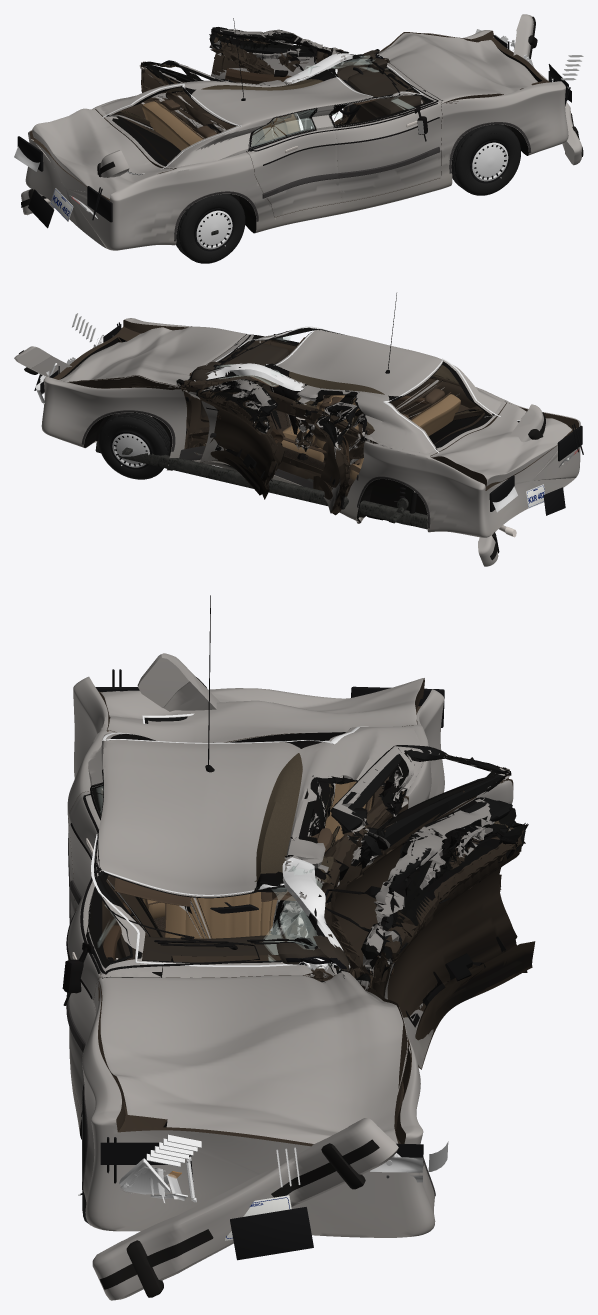
File: sedan87_side_d3.glb
The picture shows the model from 3 angles, top to bottom: view 1: azimuth 30°, elevation 25°; view 2: azimuth 150°, elevation 25°; view 3: azimuth 270°, elevation 25°; orthographic projection. The views are drawn at different scales.
Visible parts, largest first — view 1: Body, Door_FR, Hood, Door_RR, Trunk, Interior, Door_FL, Wheel_FR_mesh, Wheel_RR_mesh, Ends, Glass, Trim_FR (+8 smaller); view 2: Body, Hood, Door_FL, Trunk, Interior, Underbody, Wheel_FL_mesh, Ends, Door_RL, Glass, Trim, Bumper_R (+5 smaller); view 3: Body, Hood, Door_FL, Bumper_F, Trunk, Interior, Ends, Door_RL, Glass, Door_FR, Glass_RL, Trim_FR (+5 smaller).
Part boxes in pixels (bbox=[...]): Body: bbox=[25, 30, 568, 250]; Door_FR: bbox=[328, 90, 442, 202]; Hood: bbox=[375, 32, 537, 103]; Door_RR: bbox=[247, 107, 341, 217]; Trunk: bbox=[32, 108, 172, 198]; Interior: bbox=[142, 50, 424, 150]; Door_FL: bbox=[209, 29, 348, 80]; Wheel_FR_mesh: bbox=[451, 124, 520, 195]; Wheel_RR_mesh: bbox=[176, 194, 245, 263]; Ends: bbox=[14, 29, 583, 228]; Glass: bbox=[102, 53, 423, 174]; Trim_FR: bbox=[329, 70, 440, 178]; Body: bbox=[41, 318, 580, 537]; Hood: bbox=[59, 326, 248, 388]; Door_FL: bbox=[195, 379, 285, 499]; Trunk: bbox=[430, 403, 571, 486]; Interior: bbox=[190, 337, 460, 480]; Underbody: bbox=[95, 415, 516, 537]; Wheel_FL_mesh: bbox=[98, 412, 170, 479]; Ends: bbox=[34, 313, 583, 515]; Door_RL: bbox=[313, 401, 358, 515]; Glass: bbox=[194, 326, 520, 452]; Trim: bbox=[81, 293, 430, 528]; Bumper_R: bbox=[478, 404, 545, 566]; Body: bbox=[67, 676, 444, 1237]; Hood: bbox=[98, 971, 407, 1143]; Door_FL: bbox=[361, 797, 535, 1069]; Bumper_F: bbox=[92, 1118, 398, 1300]; Trunk: bbox=[99, 678, 424, 742]; Interior: bbox=[114, 781, 372, 971]; Ends: bbox=[95, 669, 448, 1260]; Door_RL: bbox=[330, 745, 513, 986]; Glass: bbox=[91, 713, 368, 969]; Door_FR: bbox=[67, 836, 162, 1108]; Glass_RL: bbox=[331, 745, 507, 855]; Trim_FR: bbox=[62, 830, 259, 1052].
Size of the model in its own units: 5.07 by 1.97 by 2.02.
Materials: 33 (5 with a texture image).
